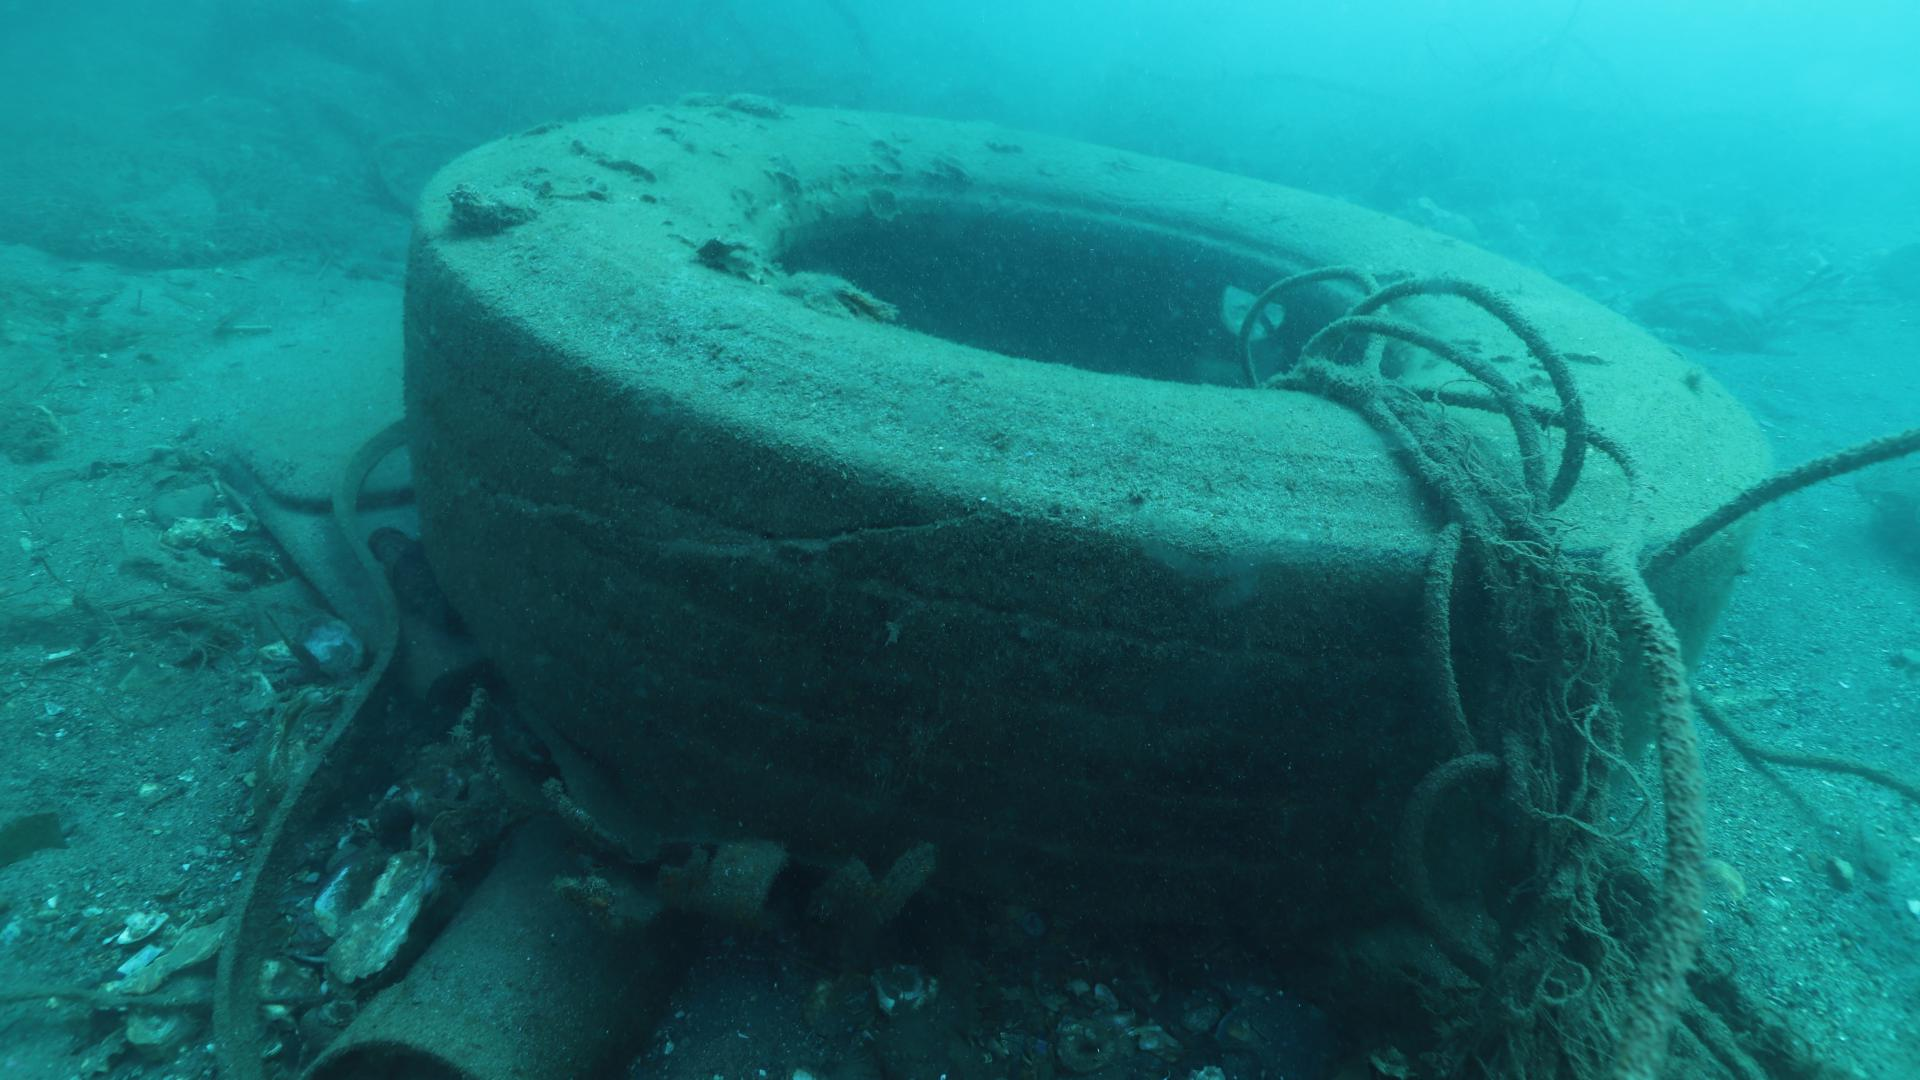bundle of ropes: (1236, 260, 1920, 1080)
tire: (402, 98, 1772, 894)
